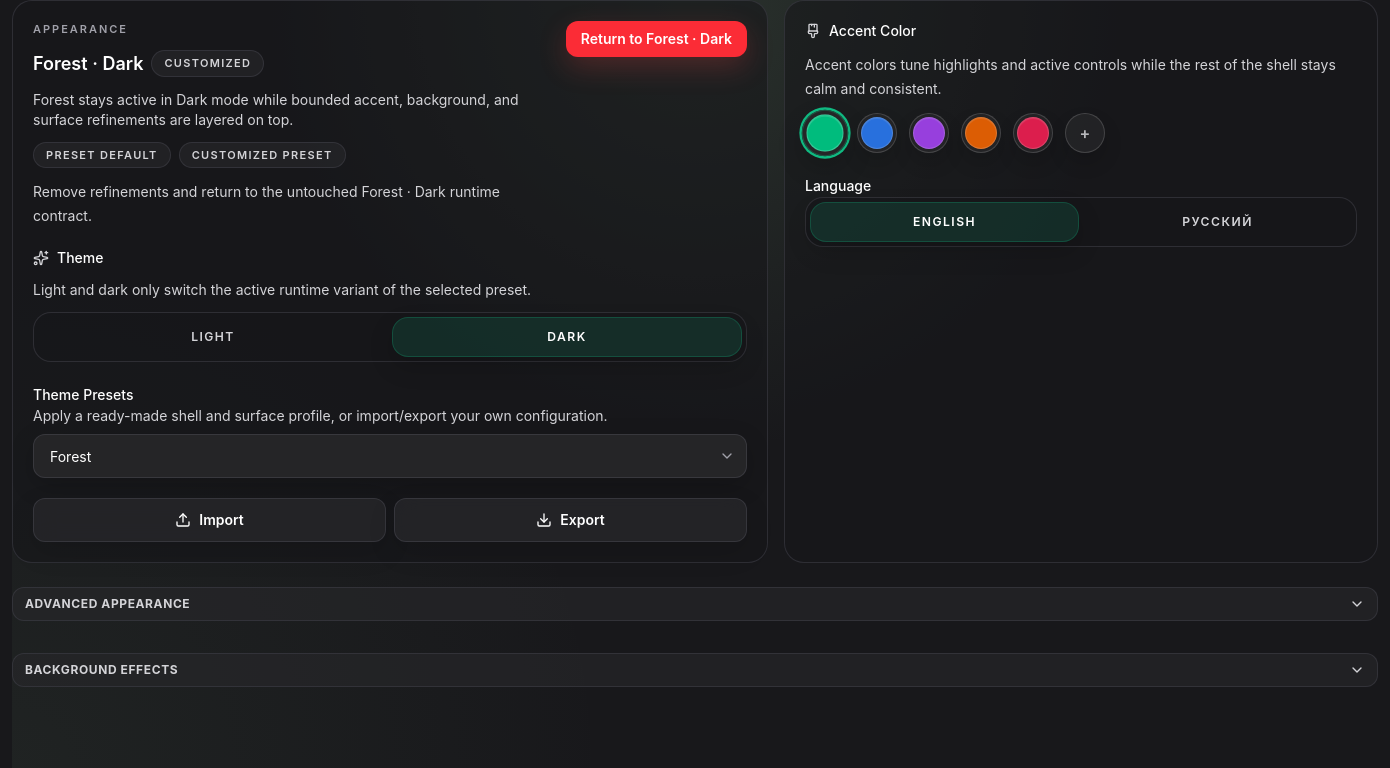
AppearanceTab customized state › labels preset-adjacent refinements as customized and lets the user reset back to the preset runtime contract
This screenshot has width=1390, height=768.
Expected: the heading "Forest · Dark" is shown, top-left (33, 50), bottom-right (143, 78)
Expected: the text "Customized" is shown, top-left (151, 50), bottom-right (264, 77)
Click the button "Return to Forest · Dark" at (656, 39), box top-left (566, 21), bottom-right (747, 57)
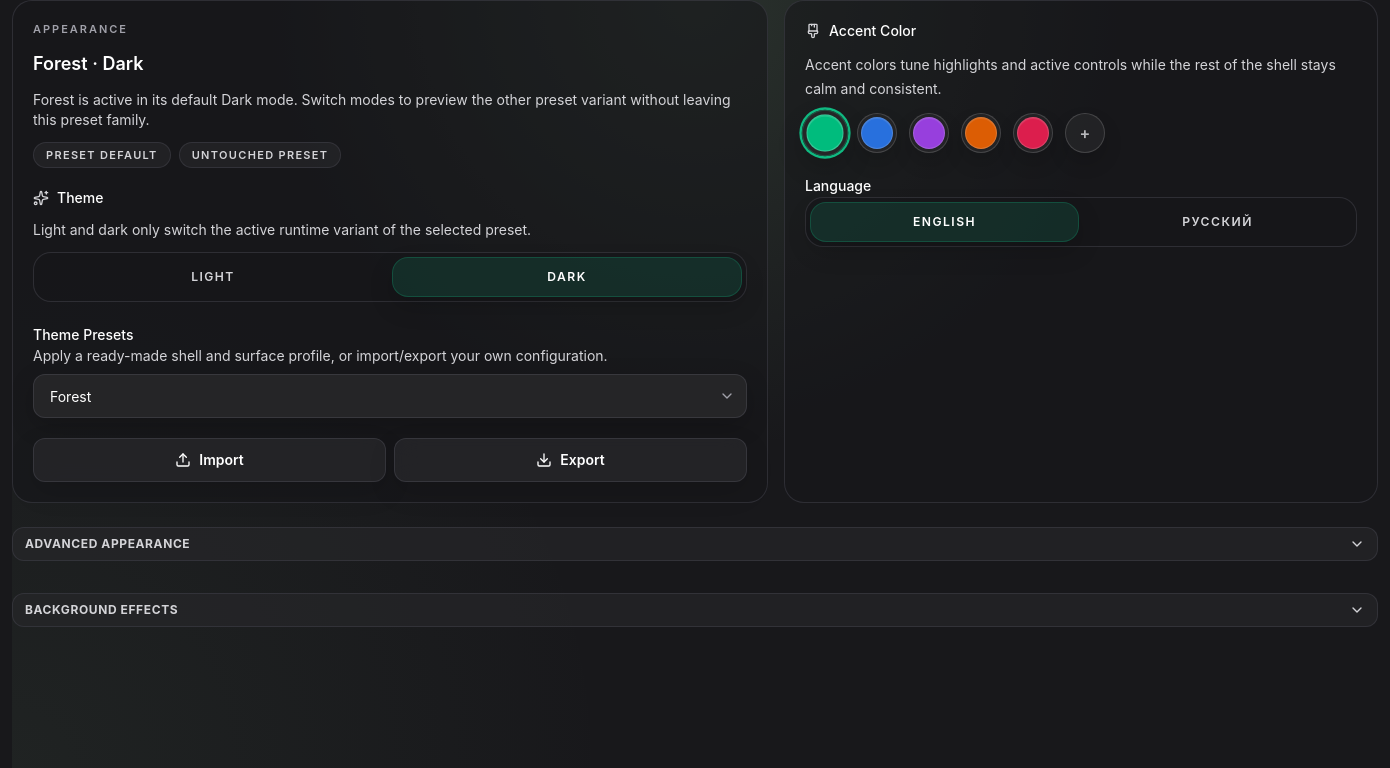
Result: the text "Customized" is gone
Result: the text "Untouched preset" is shown at top-left (179, 142), bottom-right (341, 168)
